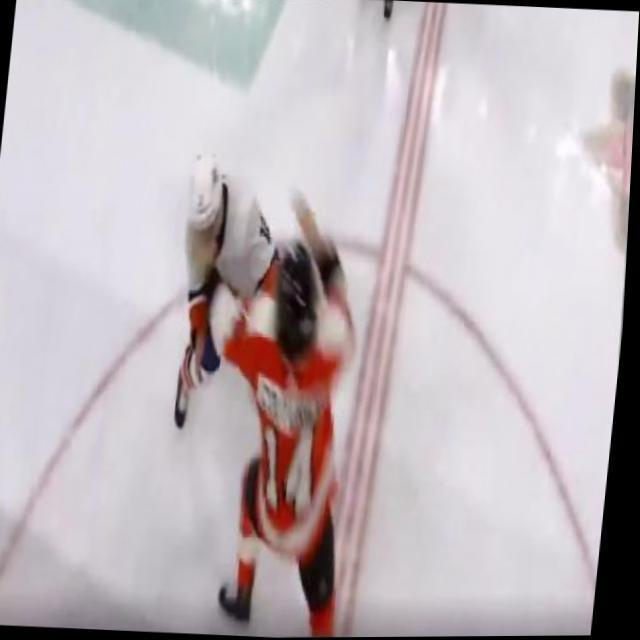fight: (142, 138, 392, 639)
